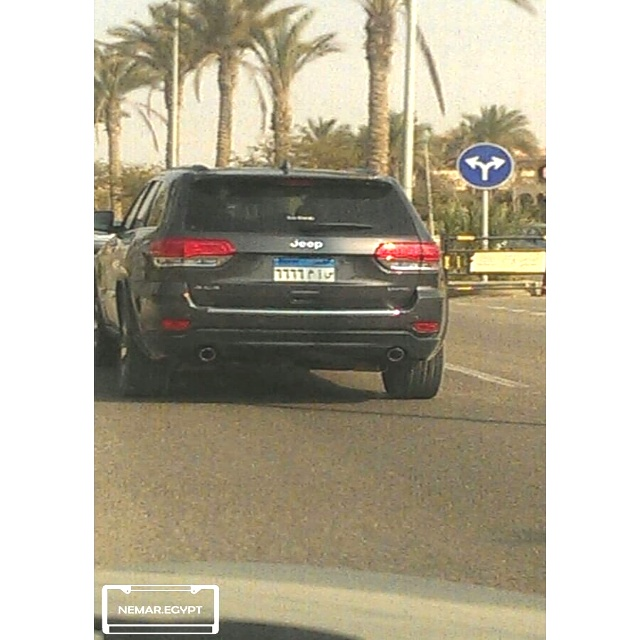License Plate: (270, 254, 338, 285)
